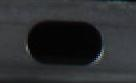holes: (25, 18, 105, 67)
